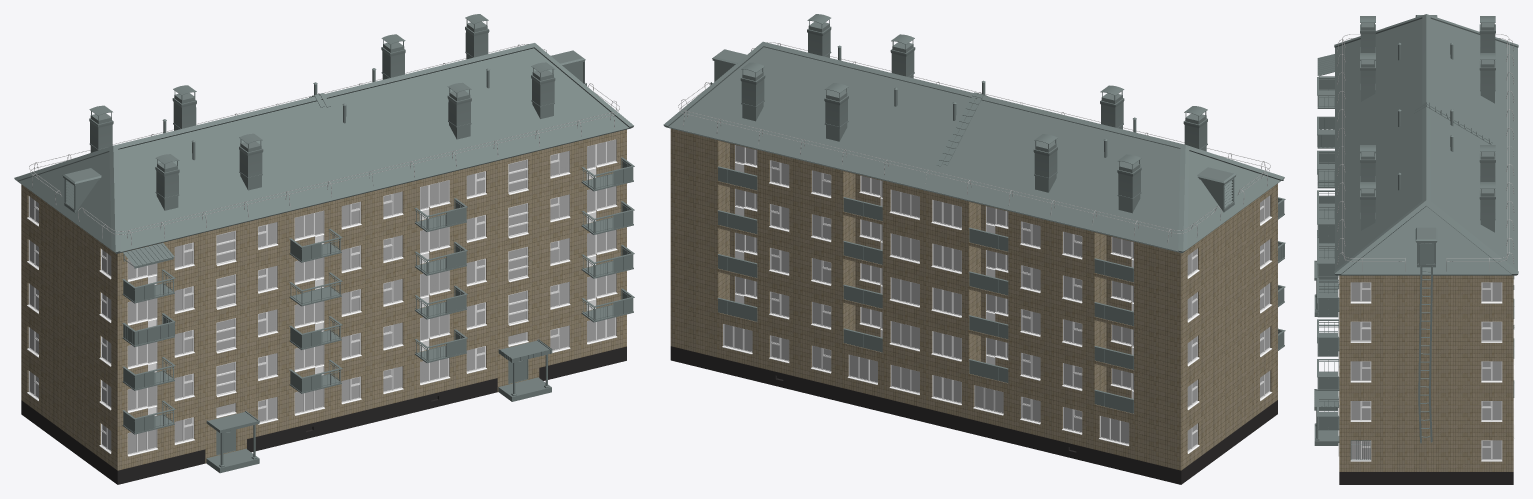
File: panelka_01.glb
3 views of the same model, side by side, from view 1: azimuth 30°, elevation 25°; view 2: azimuth 150°, elevation 25°; view 3: azimuth 270°, elevation 25° (orthographic). The views are drawn at different scales.
Visible parts, largest first — view 1: polySurface222, pPlane33, pCube316, pPlane34, Cable_15, pCube435, pCube242, polySurface231, pCube288, Panels1_Windows3_polySurface77, Panels1_Windows3_polySurface78, pCube275 (+10 smaller); view 2: polySurface222, pPlane33, pCube316, pPlane34, Cable_15, polySurface231, Panels1_polySurface149, Panels1_polySurface142, Panels1_polySurface136, Panels1_polySurface137, Panels1_polySurface141, Panels1_polySurface138 (+8 smaller); view 3: pPlane33, polySurface222, pCube316, pPlane34, Cable_15, pCube368, pCube242, polySurface231, Panels1_polySurface96, Panels1_polySurface111, Panels1_polySurface109, Panels1_polySurface107 (+21 smaller).
Boxes of the visible parts, bbox=[...] form: polySurface222: bbox=[21, 129, 626, 484]; pPlane33: bbox=[15, 48, 633, 253]; pCube316: bbox=[89, 14, 555, 210]; pPlane34: bbox=[14, 43, 633, 252]; Cable_15: bbox=[29, 44, 619, 245]; pCube435: bbox=[206, 411, 259, 473]; pCube242: bbox=[498, 339, 551, 401]; polySurface231: bbox=[62, 50, 585, 212]; pCube288: bbox=[123, 243, 174, 268]; Panels1_Windows3_polySurface77: bbox=[587, 139, 617, 179]; Panels1_Windows3_polySurface78: bbox=[420, 180, 450, 220]; pCube275: bbox=[123, 315, 174, 345]; polySurface222: bbox=[670, 128, 1277, 484]; pPlane33: bbox=[664, 47, 1283, 253]; pCube316: bbox=[740, 14, 1207, 213]; pPlane34: bbox=[663, 41, 1284, 252]; Cable_15: bbox=[678, 42, 1270, 243]; polySurface231: bbox=[712, 49, 1236, 212]; Panels1_polySurface149: bbox=[1099, 416, 1129, 446]; Panels1_polySurface142: bbox=[931, 331, 961, 361]; Panels1_polySurface136: bbox=[973, 385, 1003, 415]; Panels1_polySurface137: bbox=[931, 375, 961, 405]; Panels1_polySurface141: bbox=[889, 321, 919, 351]; Panels1_polySurface138: bbox=[889, 365, 919, 395]; pPlane33: bbox=[1335, 19, 1517, 275]; polySurface222: bbox=[1338, 275, 1513, 484]; pCube316: bbox=[1360, 16, 1495, 232]; pPlane34: bbox=[1334, 14, 1518, 274]; Cable_15: bbox=[1337, 34, 1514, 271]; pCube368: bbox=[1418, 266, 1432, 443]; pCube242: bbox=[1314, 389, 1339, 445]; polySurface231: bbox=[1415, 15, 1437, 267]; Panels1_polySurface96: bbox=[1350, 282, 1371, 303]; Panels1_polySurface111: bbox=[1481, 282, 1502, 303]; Panels1_polySurface109: bbox=[1481, 361, 1502, 382]; Panels1_polySurface107: bbox=[1481, 440, 1502, 461].
Bounding box in the file's own units: 37.35 × 20.54 × 14.08.
6 materials, 1 textured.
